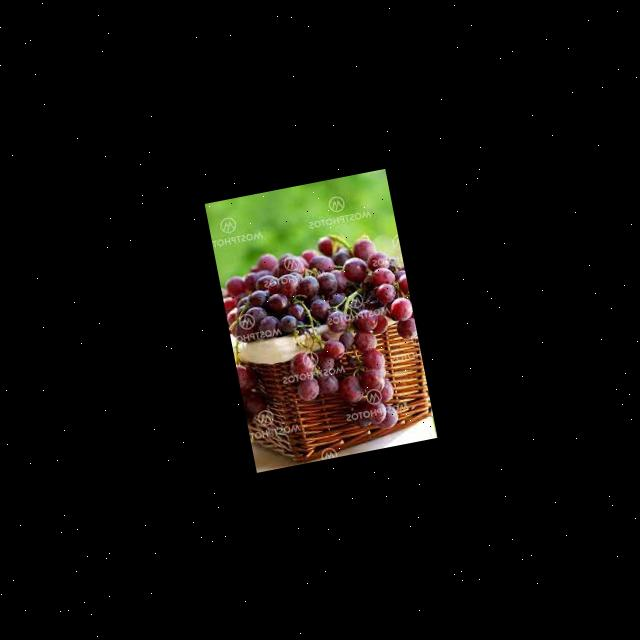grape: (215, 221, 433, 453)
